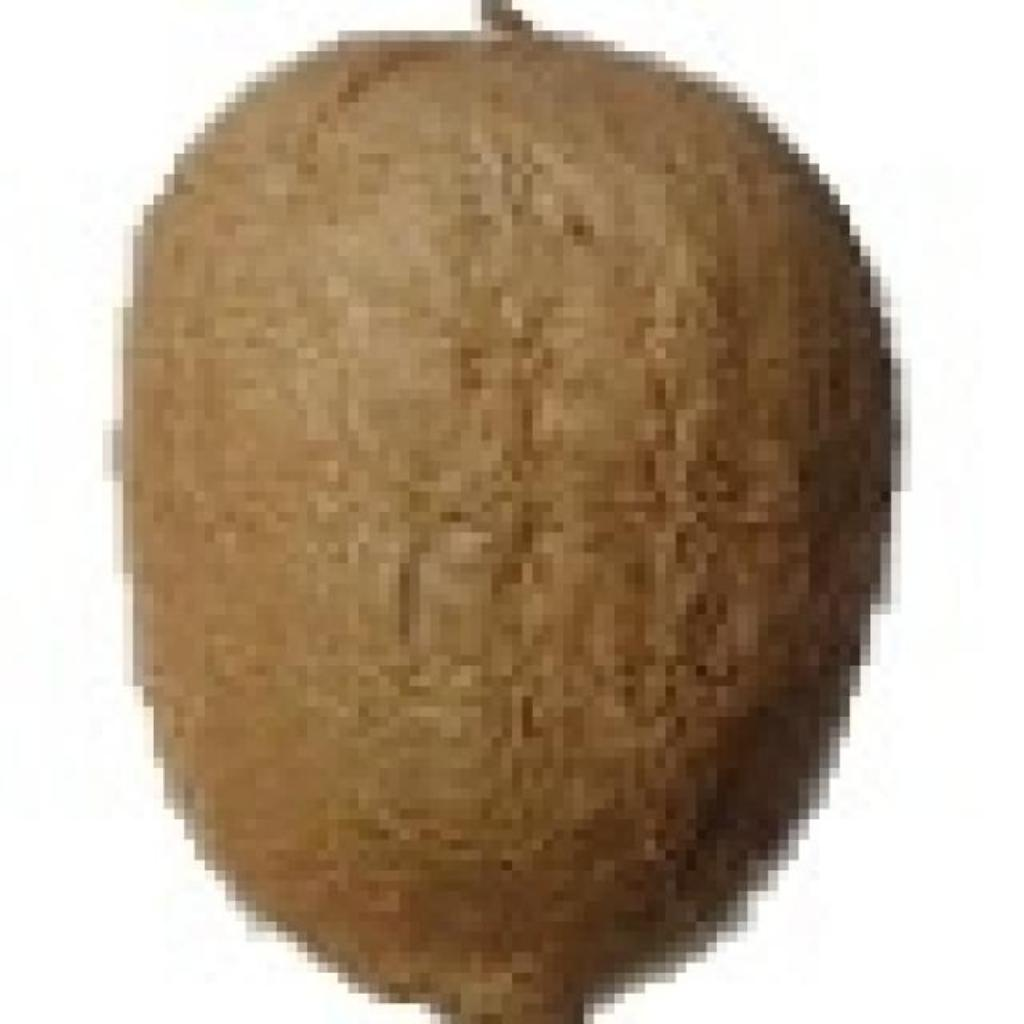kiwi: (113, 20, 870, 1004)
